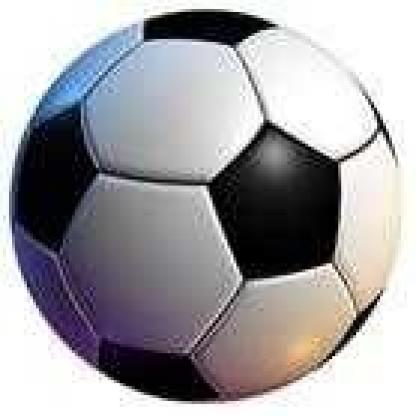ball: (8, 9, 406, 404)
